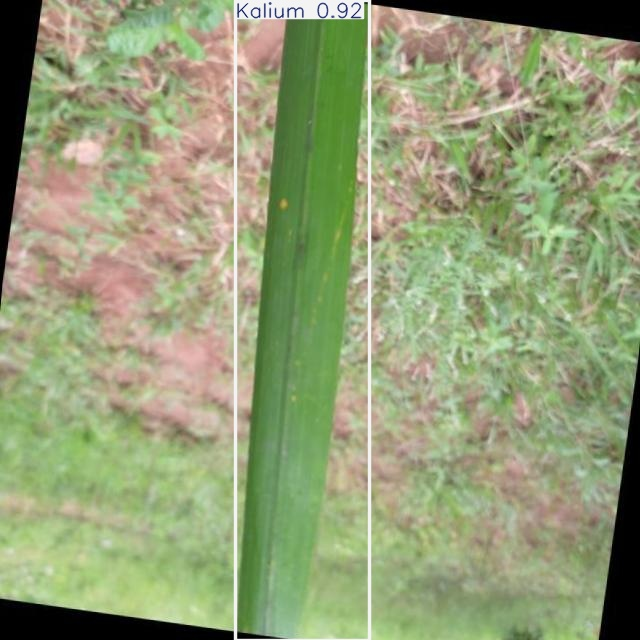Kalium: (235, 0, 370, 640)
